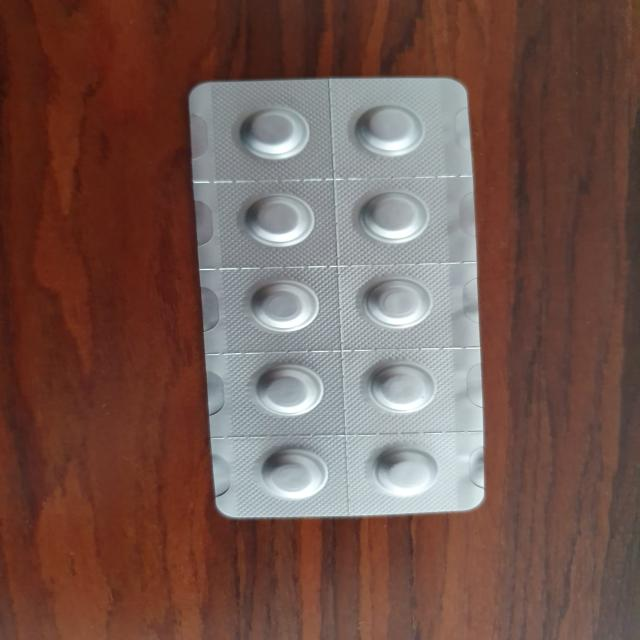Pill: (347, 92, 445, 168), (229, 94, 313, 172), (242, 189, 332, 254), (256, 440, 334, 511), (246, 275, 328, 341), (360, 273, 440, 340), (366, 441, 451, 503), (248, 362, 330, 425), (360, 189, 432, 252), (366, 364, 445, 421)
